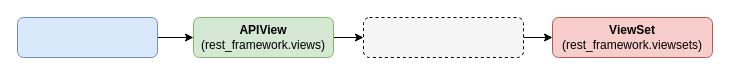
The diagram is 730 pixels wide and 75 high, and some of its shapes have lost their labels. The shapes that lost their labels are listed below. From the top down, each one's box as (x1, y1, x2, y2) in pixels, then its label:
(16, 16, 158, 58): View (django.views.generic)
(362, 16, 524, 58): ViewSetMixin (rest_framework.viewsets)
